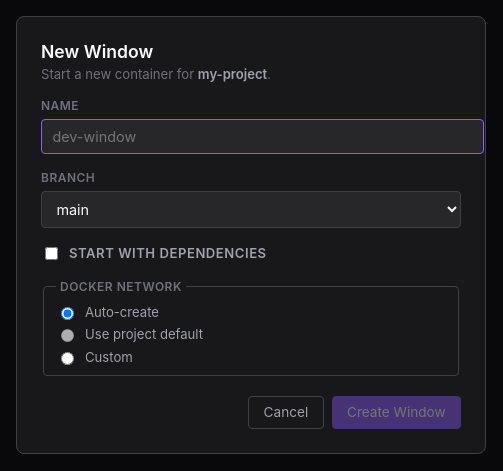
Test case: network mode radio group › withDeps=true disables the network fieldset
This screenshot has width=503, height=471.
Click the checkbox labelled "Start with dependencies": coordinates (52, 253) [45, 247, 58, 260]
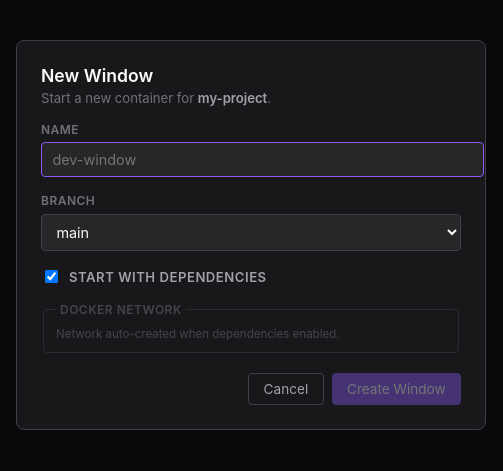
Expected: the element "Docker Network" is disabled, [43, 302, 459, 353]
